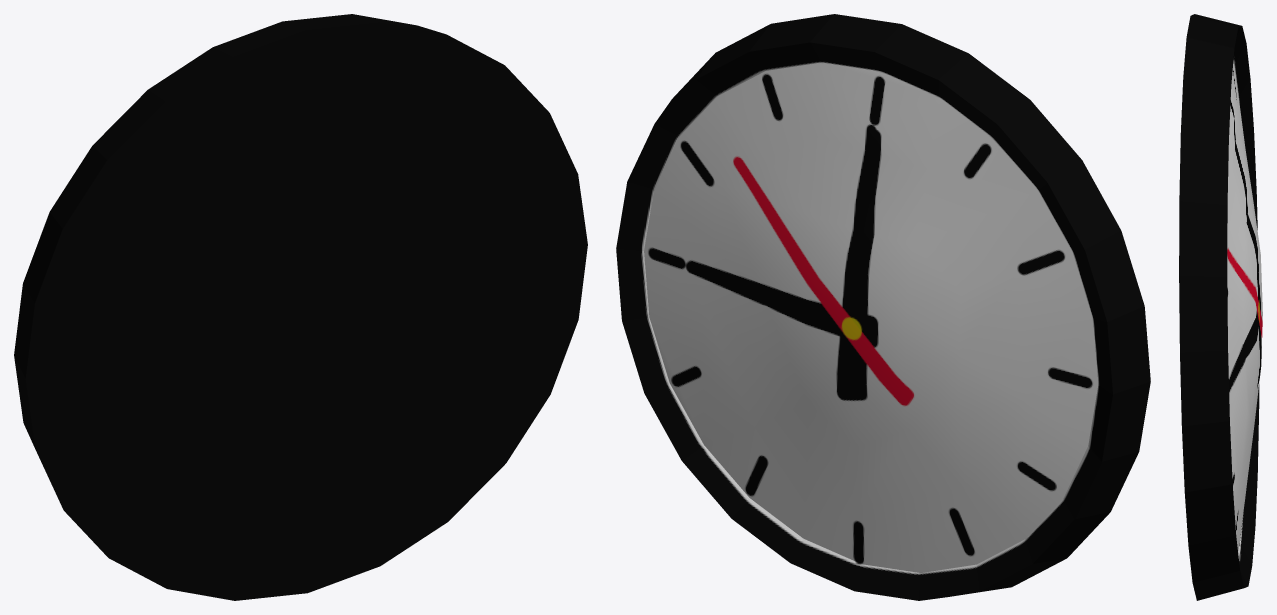
The model's file is Clock.fbx.
The picture shows the model from 3 angles, left to right: view 1: azimuth 30°, elevation 25°; view 2: azimuth 150°, elevation 25°; view 3: azimuth 270°, elevation 25°; orthographic projection. The views are drawn at different scales.
Parts seen in each view (by area): view 1: Clock; view 2: Clock; view 3: Clock.
Boxes of the visible parts, <box> form: Clock: <box>14,14,587,600</box>; Clock: <box>616,14,1150,600</box>; Clock: <box>1179,14,1262,600</box>.
Bounding box in the file's own units: 0.7884 × 0.7889 × 0.1121.
1 material, 1 textured.
